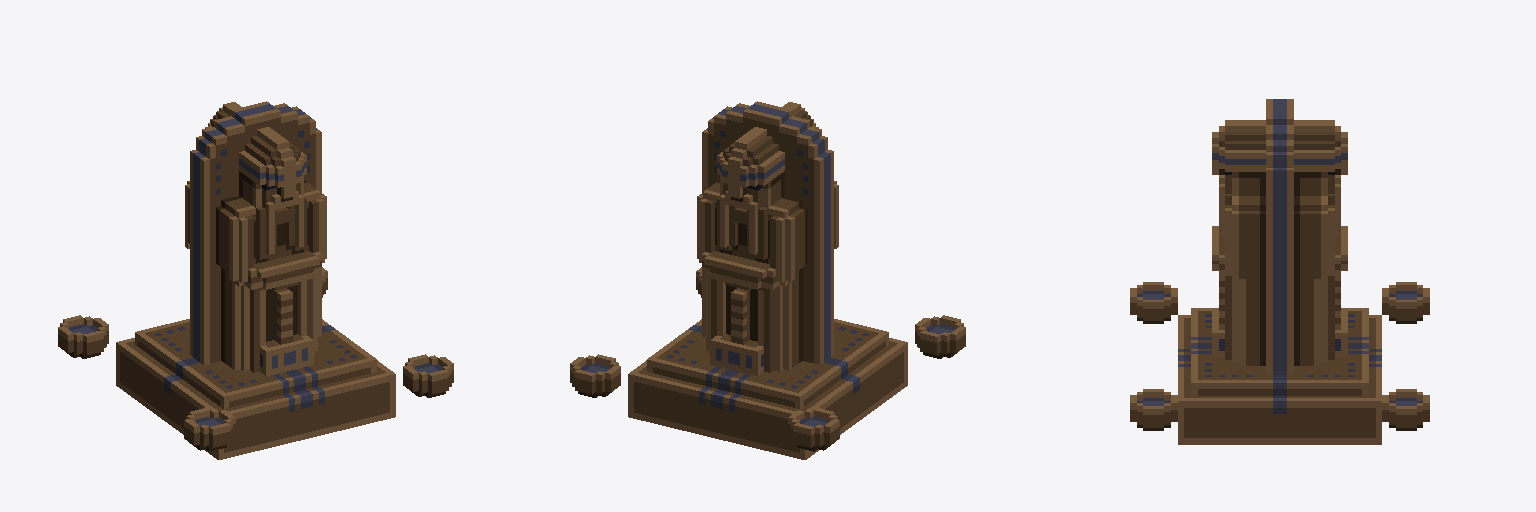
The picture shows the model from 3 angles: view 1: azimuth 30°, elevation 25°; view 2: azimuth 150°, elevation 25°; view 3: azimuth 270°, elevation 25°; orthographic projection.
Visible parts, largest first — view 1: sculpture_jarl; view 2: sculpture_jarl; view 3: sculpture_jarl.
Part boxes in pixels (x1,y1,x2,y2): sculpture_jarl: (58,101,453,459); sculpture_jarl: (570,101,965,459); sculpture_jarl: (1130,99,1429,444).
Bounding box in the file's own units: 4.4 × 4.7 × 4.4.
1 materials, 1 textured.